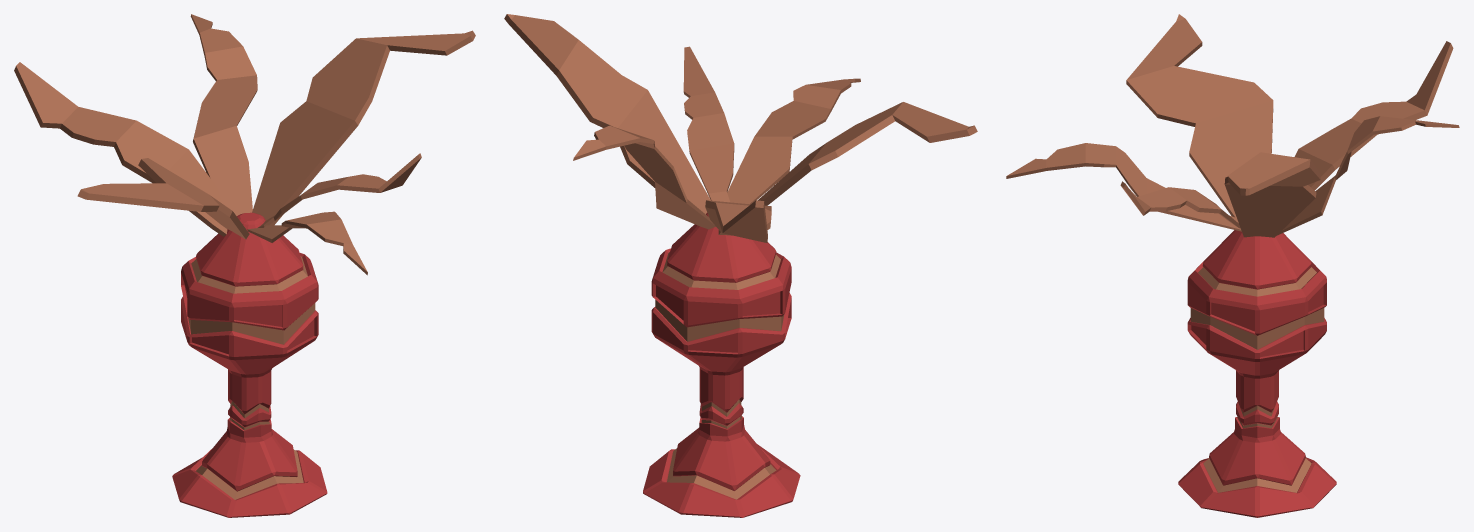
Rendered from Plant_01_Merged.fbx.
3 renders of one model, left to right at view 1: azimuth 30°, elevation 25°; view 2: azimuth 150°, elevation 25°; view 3: azimuth 270°, elevation 25°, orthographic. The views are drawn at different scales.
Parts seen in each view (by area): view 1: Plant_01_Merged; view 2: Plant_01_Merged; view 3: Plant_01_Merged.
Part boxes in pixels (x1,y1,x2,y2): Plant_01_Merged: (14,14,475,517); Plant_01_Merged: (504,14,977,517); Plant_01_Merged: (1006,14,1459,517).
Size of the model in its own units: 917 by 822 by 845.
